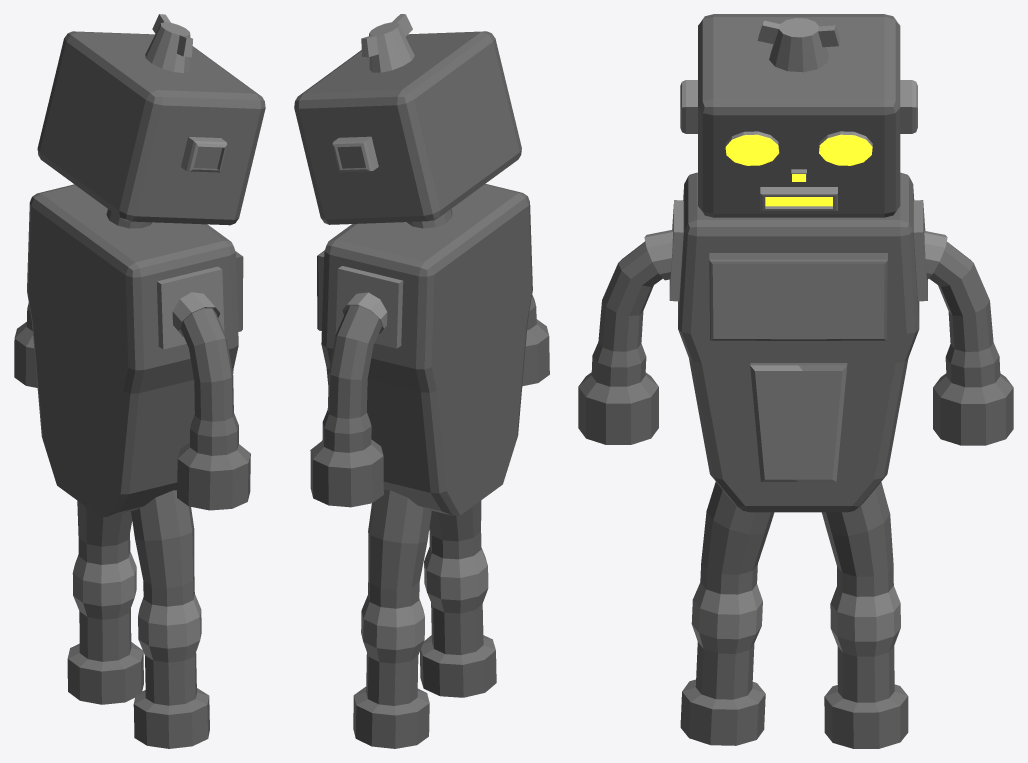
File: robot sano.glb
3 views of the same model, side by side, from view 1: azimuth 30°, elevation 25°; view 2: azimuth 150°, elevation 25°; view 3: azimuth 270°, elevation 25° (orthographic). The views are drawn at different scales.
Parts seen in each view (by area): view 1: torso.001, cabeza.001, pierna 2, pierna, brazo2, hombro2, brazo; view 2: torso.001, cabeza.001, pierna, pierna 2, brazo, hombro, brazo2; view 3: torso.001, cabeza.001, pierna, pierna 2, brazo2, brazo, hombro, hombro2.
Part boxes in pixels (x1,y1,x2,y2): torso.001: (27,184,243,516); cabeza.001: (37,14,265,228); pierna 2: (131,490,209,748); pierna: (67,501,143,704); brazo2: (172,292,250,510); hombro2: (156,266,224,349); brazo: (14,303,37,387); torso.001: (317,184,532,515); cabeza.001: (294,14,521,228); pierna: (353,490,431,748); pierna 2: (420,500,496,697); brazo: (310,292,387,507); hombro: (335,266,403,348); brazo2: (522,295,549,386); torso.001: (678,172,919,512); cabeza.001: (680,14,917,217); pierna: (822,482,908,748); pierna 2: (680,481,774,745); brazo2: (578,229,672,444); brazo: (924,231,1013,445); hombro: (913,200,927,301); hombro2: (669,200,683,301).
Bounding box in the file's own units: 2.02 × 8.95 × 4.84.
